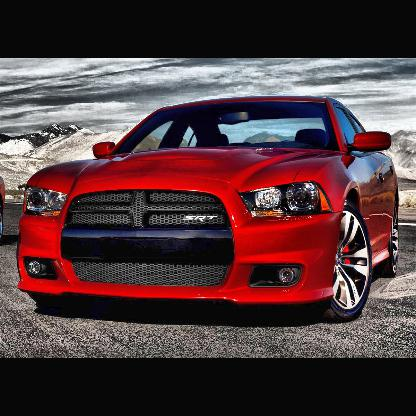Dodge Charger Sedan 2012: (18, 92, 402, 319)
